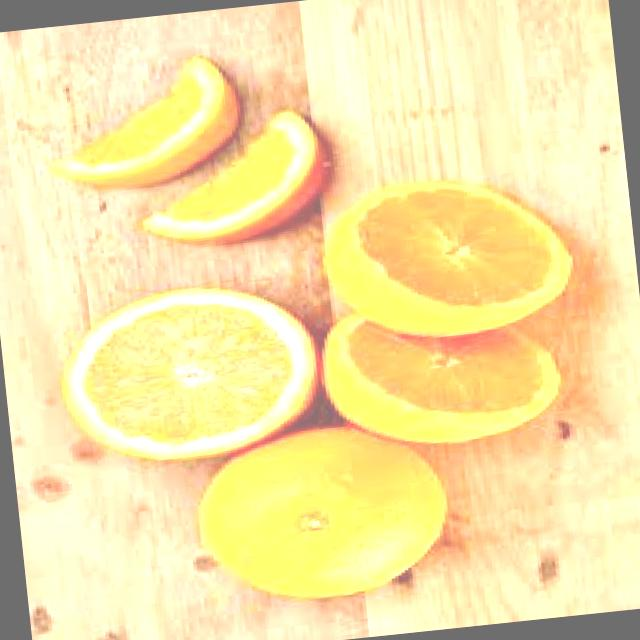Orange: (49, 276, 325, 474), (188, 416, 456, 612), (316, 167, 580, 351), (314, 294, 566, 458), (129, 105, 338, 256), (39, 51, 247, 198)
